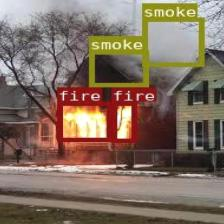fire: (56, 100, 110, 140), (111, 101, 135, 141)
smoke: (141, 17, 203, 66), (88, 49, 148, 86)
